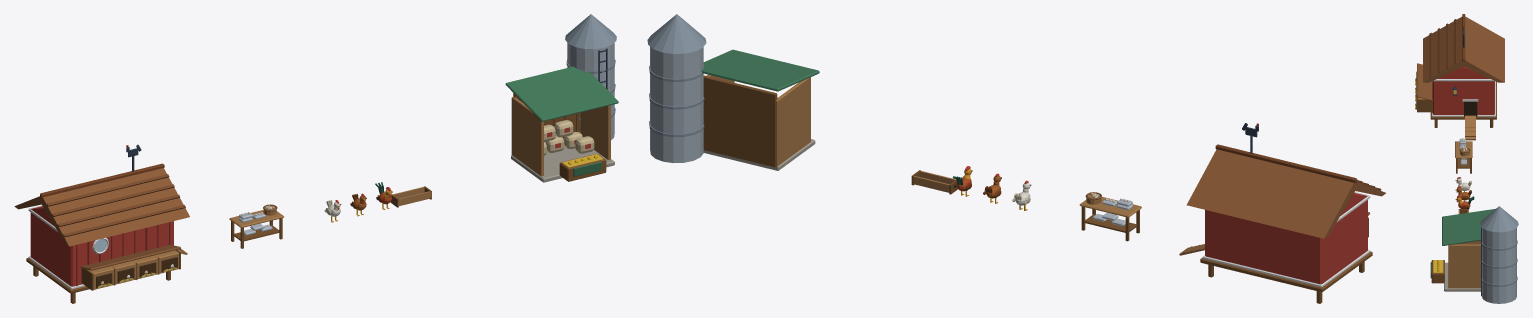
File: farm-poultry.glb
3 views of the same model, side by side, from view 1: azimuth 30°, elevation 25°; view 2: azimuth 150°, elevation 25°; view 3: azimuth 270°, elevation 25° (orthographic). The views are drawn at different scales.
Parts seen in each view (by area): view 1: fm_henhouse_mesh, fm_feedstore_mesh, fm_eggtable_mesh, fm_trough_mesh; view 2: fm_henhouse_mesh, fm_feedstore_mesh, fm_eggtable_mesh, fm_trough_mesh; view 3: fm_henhouse_mesh, fm_feedstore_mesh, fm_eggtable_mesh.
Part boxes in pixels (x1=…): fm_henhouse_mesh: x1=14, y1=154, x2=189, y2=303; fm_feedstore_mesh: x1=505, y1=14, x2=618, y2=182; fm_eggtable_mesh: x1=229, y1=204, x2=284, y2=248; fm_trough_mesh: x1=390, y1=186, x2=431, y2=207; fm_henhouse_mesh: x1=1179, y1=134, x2=1385, y2=303; fm_feedstore_mesh: x1=647, y1=14, x2=819, y2=170; fm_eggtable_mesh: x1=1079, y1=192, x2=1141, y2=241; fm_trough_mesh: x1=911, y1=170, x2=957, y2=194; fm_henhouse_mesh: x1=1415, y1=14, x2=1504, y2=140; fm_feedstore_mesh: x1=1430, y1=206, x2=1518, y2=303; fm_eggtable_mesh: x1=1455, y1=138, x2=1472, y2=173.
Size of the model in its own units: 23.18 by 4.69 by 4.68.
